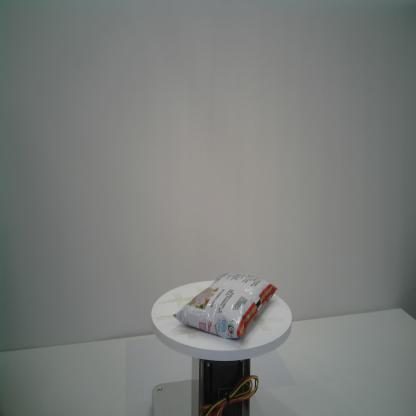Seasoner: (172, 269, 279, 341)
